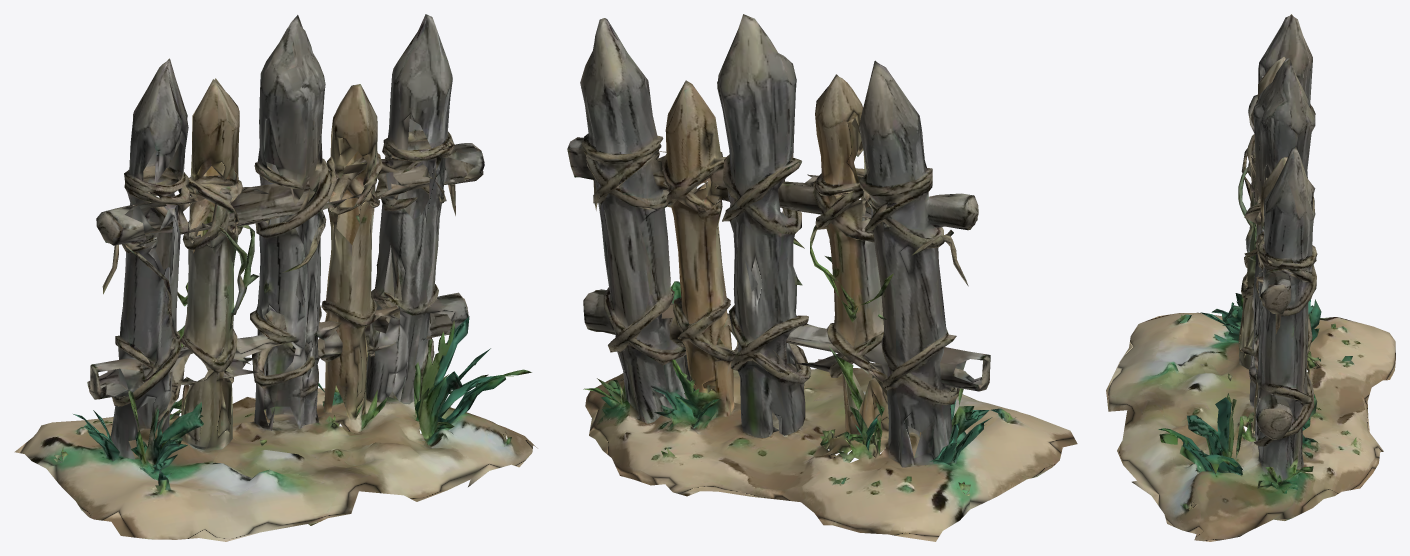
File: sw-palisade.glb
The picture shows the model from 3 angles, left to right: view 1: azimuth 30°, elevation 25°; view 2: azimuth 150°, elevation 25°; view 3: azimuth 270°, elevation 25°; orthographic projection. The views are drawn at different scales.
Visible parts, largest first — view 1: geometry_0; view 2: geometry_0; view 3: geometry_0.
Boxes of the visible parts, <box> form: geometry_0: <box>14,14,537,541</box>; geometry_0: <box>567,14,1077,541</box>; geometry_0: <box>1106,14,1395,541</box>.
Bounding box in the file's own units: 0.8742 × 0.8335 × 0.5476.
Materials: 1 (1 with a texture image).
